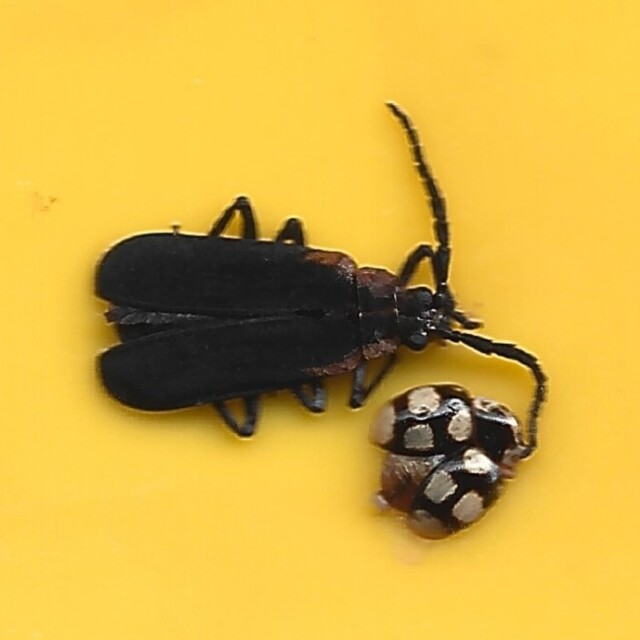Coleoptera: (90, 98, 550, 467), (367, 382, 526, 542)
